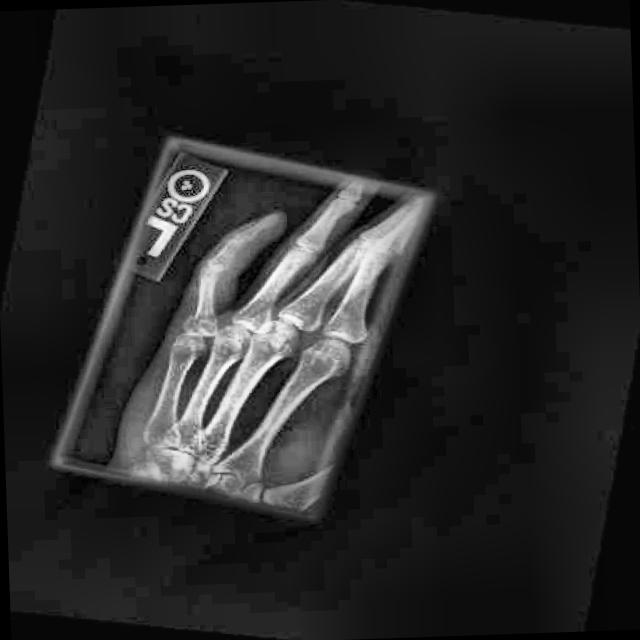fingers positive: (170, 300, 222, 347)
